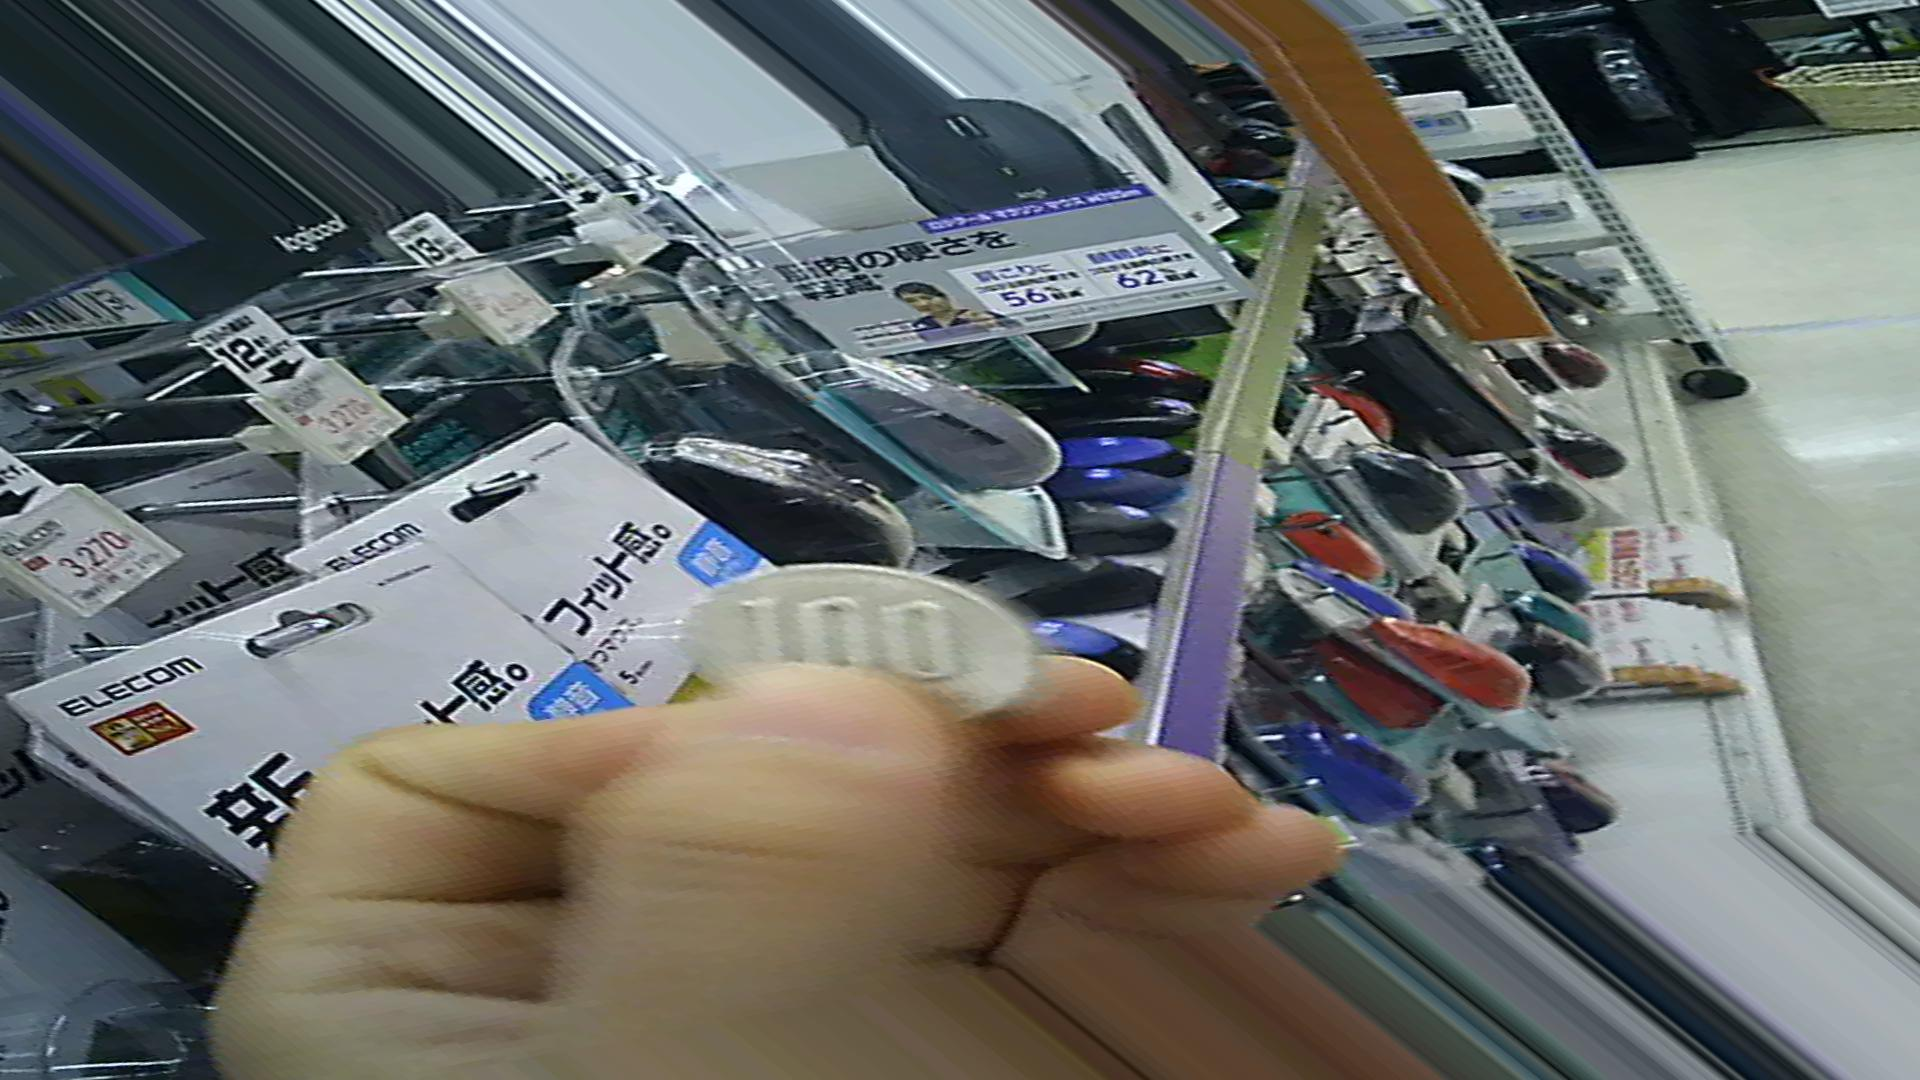100 Yen: (674, 562, 1025, 731)
